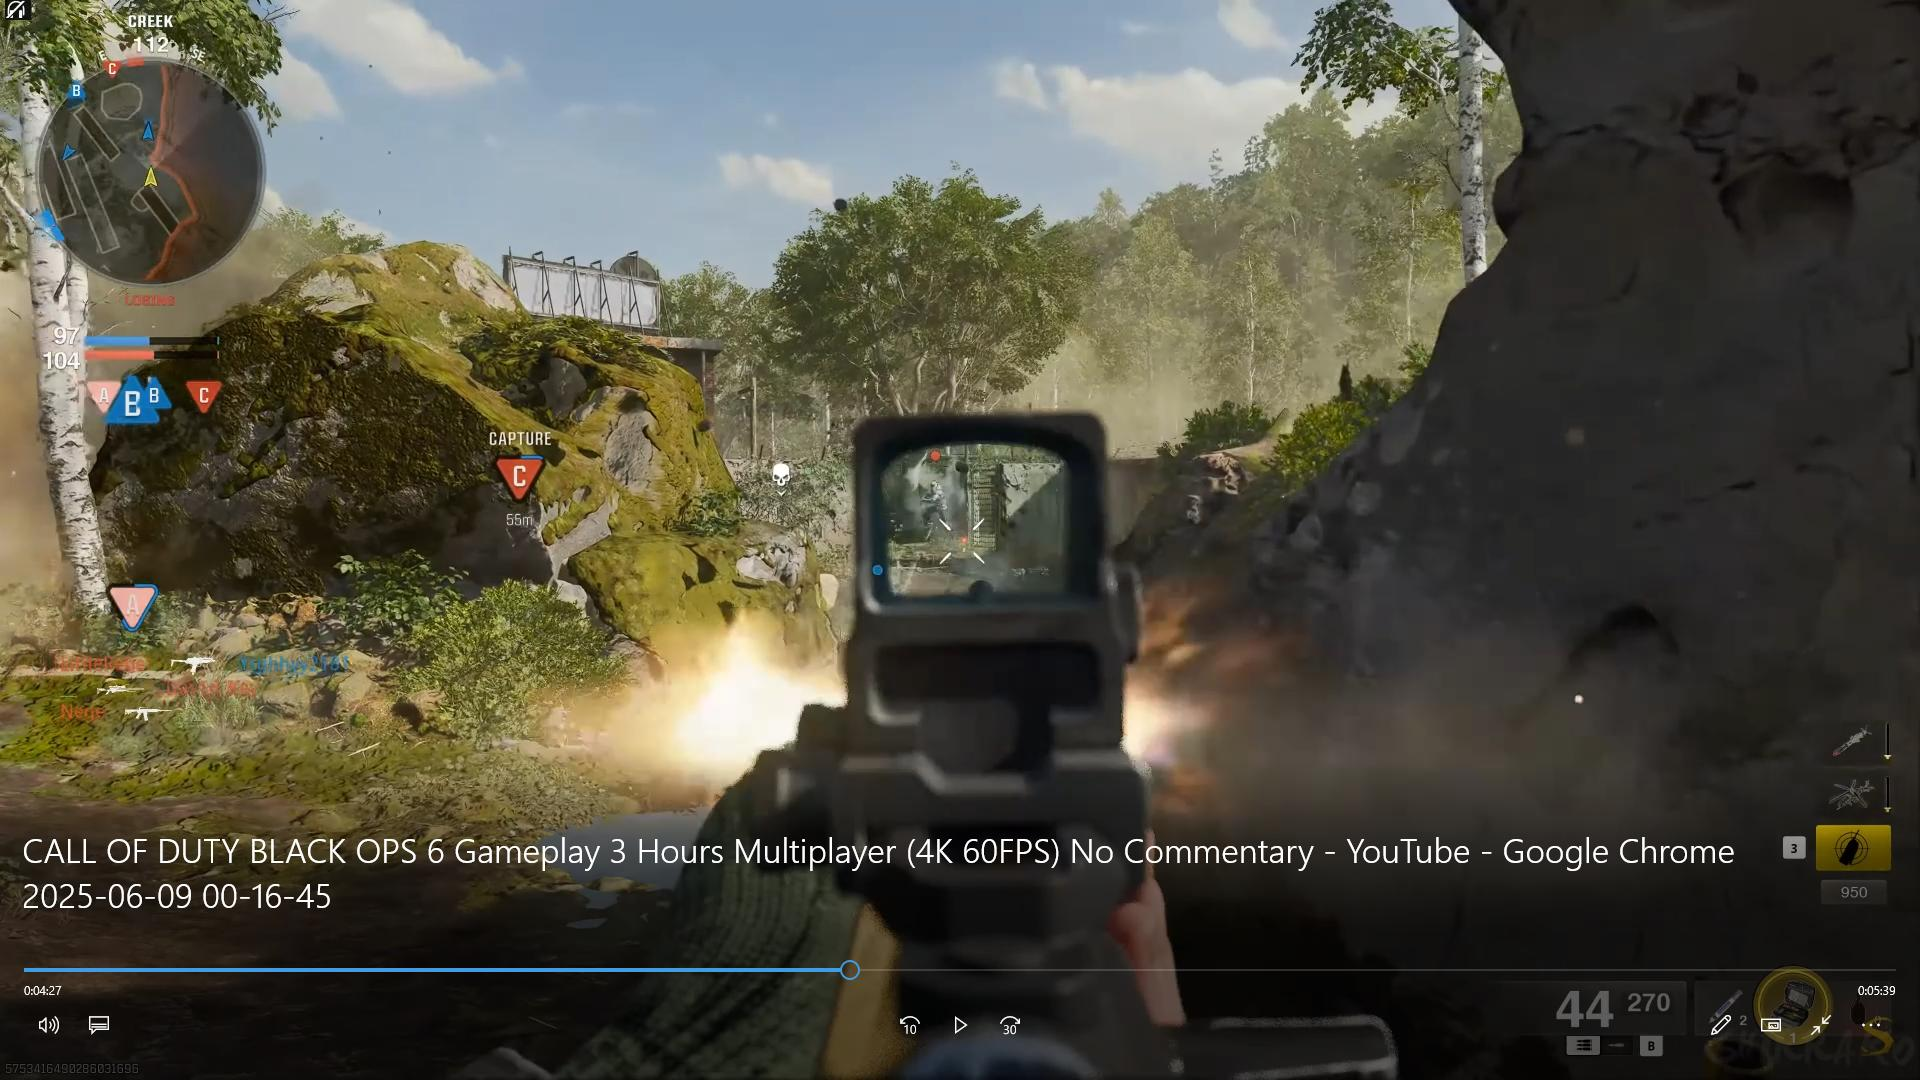Enemy: (914, 479, 955, 530)
